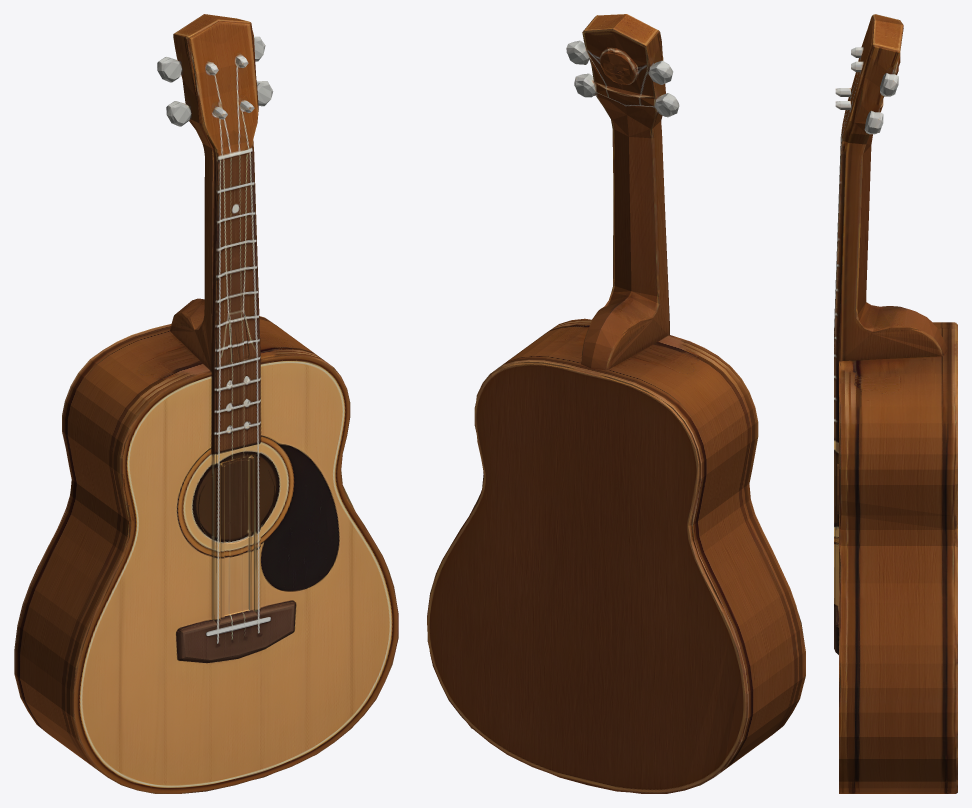
The model's file is Guitar.glb.
3 views of the same model, side by side, from view 1: azimuth 30°, elevation 25°; view 2: azimuth 150°, elevation 25°; view 3: azimuth 270°, elevation 25° (orthographic).
Visible parts, largest first — view 1: Mesh_0.003; view 2: Mesh_0.003; view 3: Mesh_0.003.
Boxes of the visible parts, x1,y1,x2,y2 form: Mesh_0.003: (14,14,398,793); Mesh_0.003: (427,14,805,793); Mesh_0.003: (834,14,957,793).
Size of the model in its own units: 0.4497 by 1 by 0.1499.
Materials: 1 (1 with a texture image).
